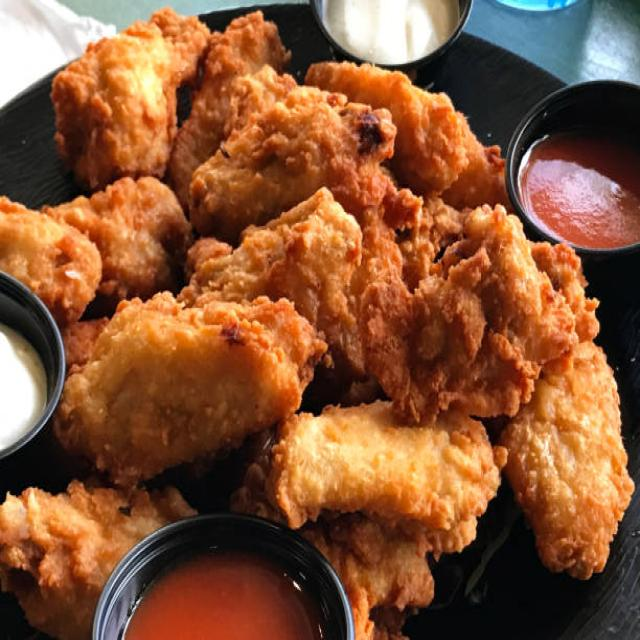Frango: (0, 0, 636, 640)
